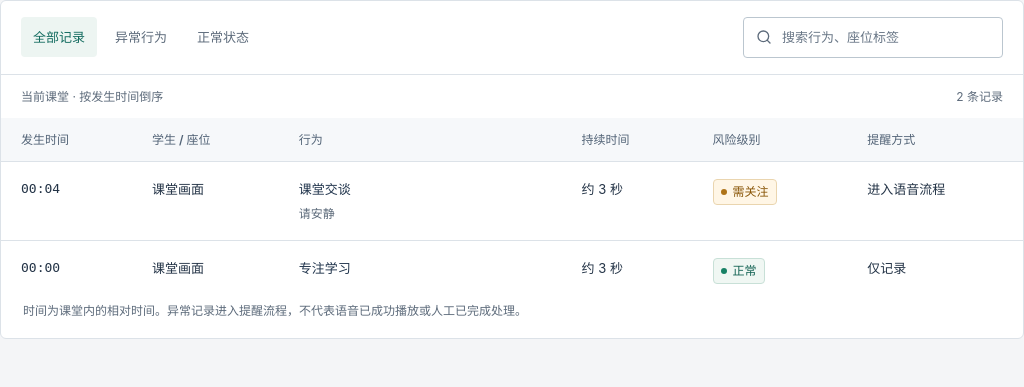
Test case: 事件中心 › 关键词搜索无结果时显示可操作提示
Type "不存在" into the field named "搜索行为记录".
click(885, 37); type("不存在")  # box [780,26,990,49]
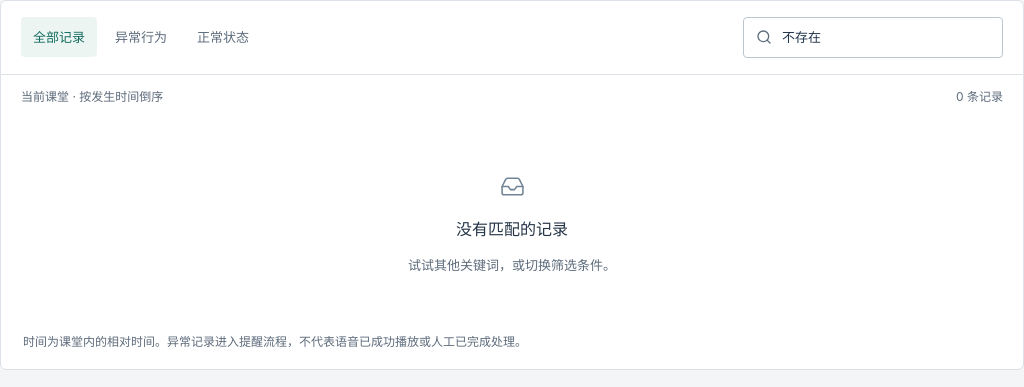
Check: the text "没有匹配的记录" is shown, box [456,217,568,243]
